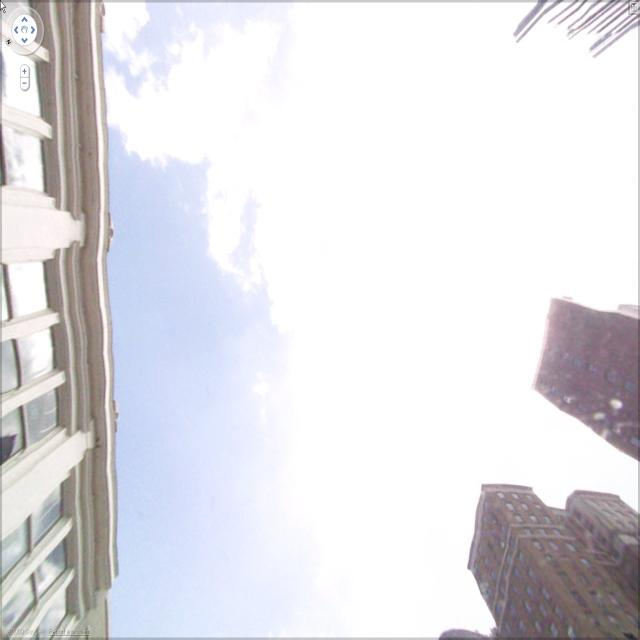b_1: (2, 4, 134, 614), (472, 477, 638, 640), (532, 290, 640, 452)
